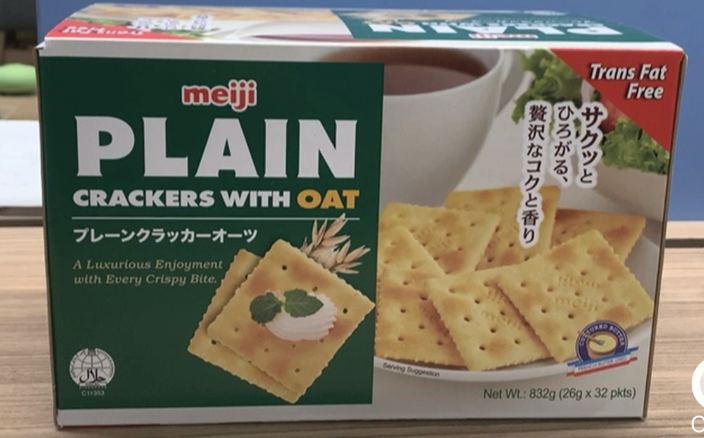crackers_850g: (58, 58, 646, 403)
